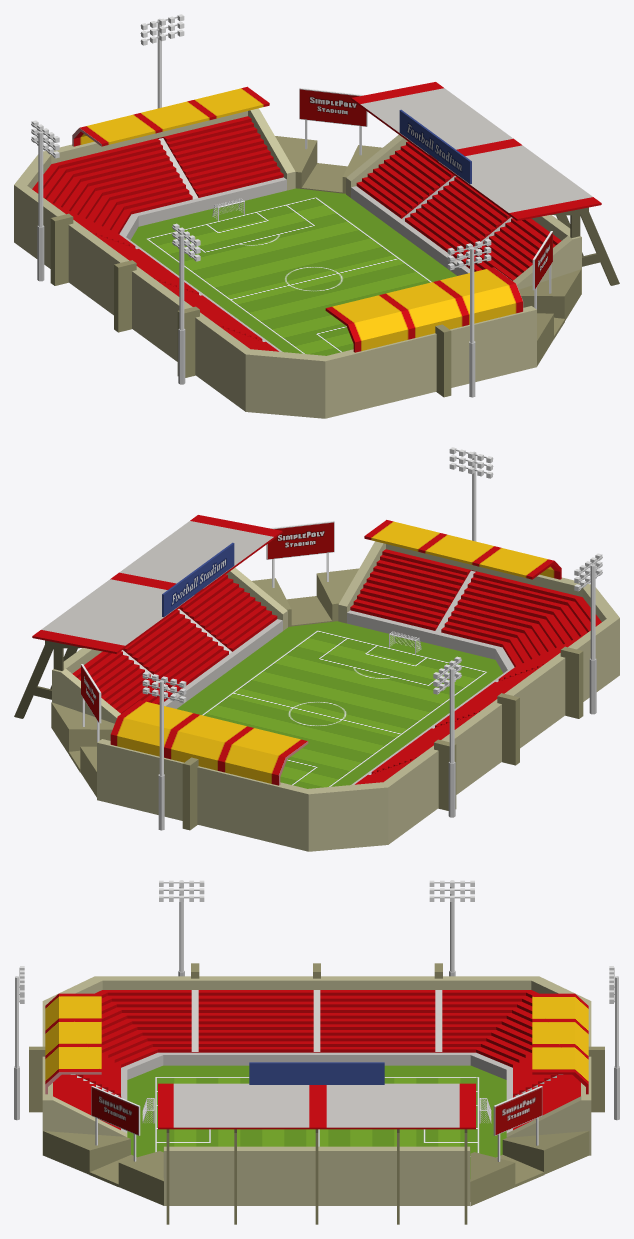
File: building-stadium.glb
The picture shows the model from 3 angles, top to bottom: view 1: azimuth 30°, elevation 25°; view 2: azimuth 150°, elevation 25°; view 3: azimuth 270°, elevation 25°; orthographic projection. The views are drawn at different scales.
Parts seen in each view (by area): view 1: model; view 2: model; view 3: model.
Part boxes in pixels (x1=…): model: x1=14, y1=14, x2=619, y2=418; model: x1=14, y1=447, x2=619, y2=851; model: x1=14, y1=880, x2=619, y2=1224.
Size of the model in its own units: 35.46 by 11.73 by 44.76.
Materials: 1 (1 with a texture image).
